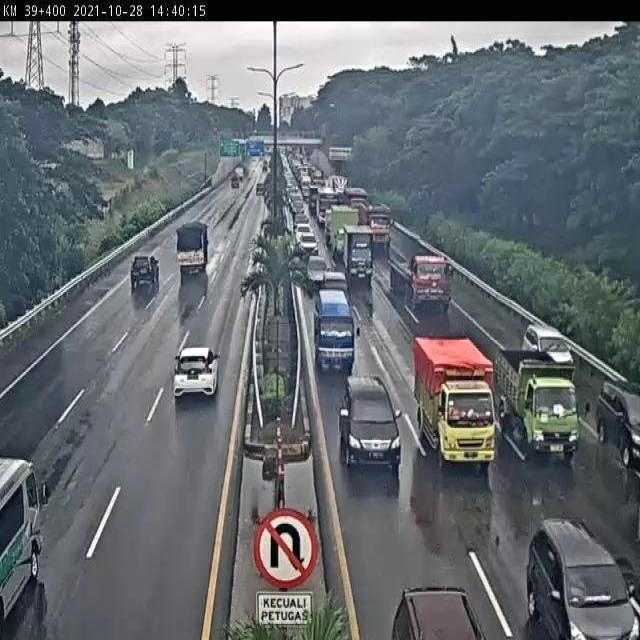Bus: (316, 187, 340, 234)
Car: (521, 517, 640, 639), (339, 375, 403, 473), (391, 583, 488, 640), (596, 374, 640, 466), (522, 324, 576, 378), (170, 349, 219, 402), (130, 254, 162, 290), (304, 255, 330, 293), (299, 234, 319, 257), (294, 220, 312, 241)
Truck: (414, 332, 509, 470), (494, 345, 590, 464), (388, 251, 454, 315), (343, 225, 377, 285), (176, 218, 209, 276), (331, 204, 362, 261), (358, 201, 393, 251), (341, 185, 369, 210), (327, 173, 349, 192)
Van: (0, 459, 43, 633), (313, 285, 355, 374)
